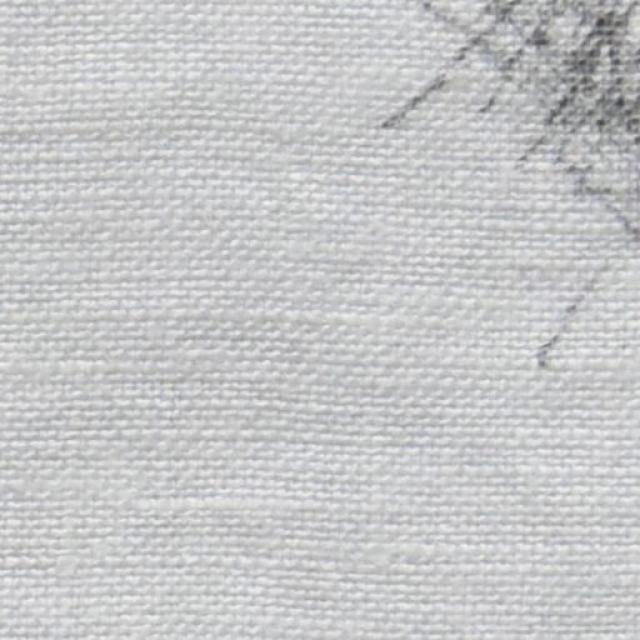Stain: (360, 0, 640, 380)
